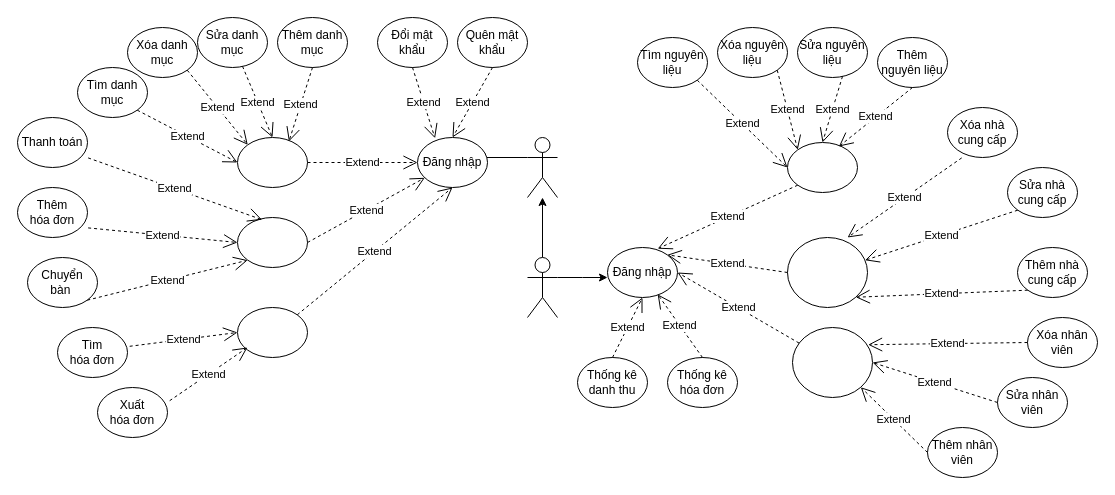
Image size: 1115x495. Some labels were removed from this diagram. The centre of each missing label's shape, as x and y in pixels:
"Danh Mục" belongs at pixel 272 162.
"Danh Sách Hóa đơn" belongs at pixel 272 332.
"Danh sách nguyên liệu" belongs at pixel 822 167.
"Danh sách nhà cung cấp" belongs at pixel 827 272.
"Hóa đơn" belongs at pixel 272 242.
"Nhân Viên" belongs at pixel 542 167.
"Quyền quản lí" belongs at pixel 832 362.
"Quản lí" belongs at pixel 542 287.
